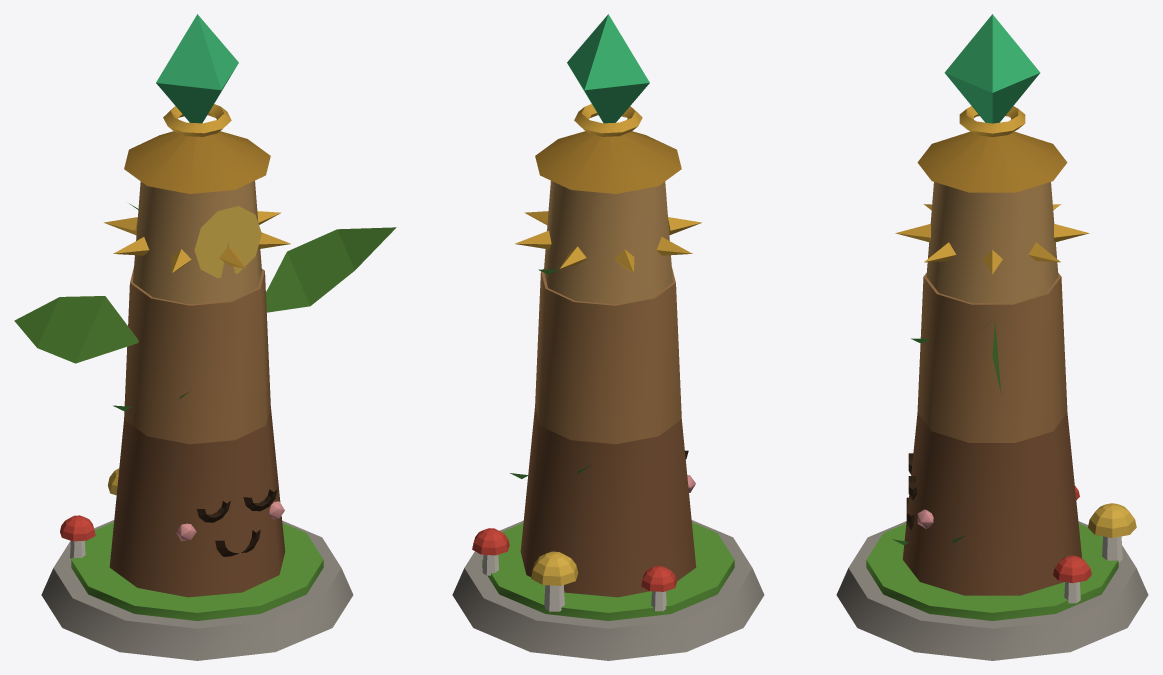
Rendered from relic-growth_totem.glb.
The picture shows the model from 3 angles, left to right: view 1: azimuth 30°, elevation 25°; view 2: azimuth 150°, elevation 25°; view 3: azimuth 270°, elevation 25°; orthographic projection.
Parts seen in each view (by area): view 1: decor-growth_totem; view 2: decor-growth_totem; view 3: decor-growth_totem.
Boxes of the visible parts, x1=… form: decor-growth_totem: x1=14, y1=14, x2=396, y2=660; decor-growth_totem: x1=452, y1=14, x2=764, y2=660; decor-growth_totem: x1=836, y1=14, x2=1148, y2=660.
Size of the model in its own units: 1.47 by 2.14 by 1.04.
